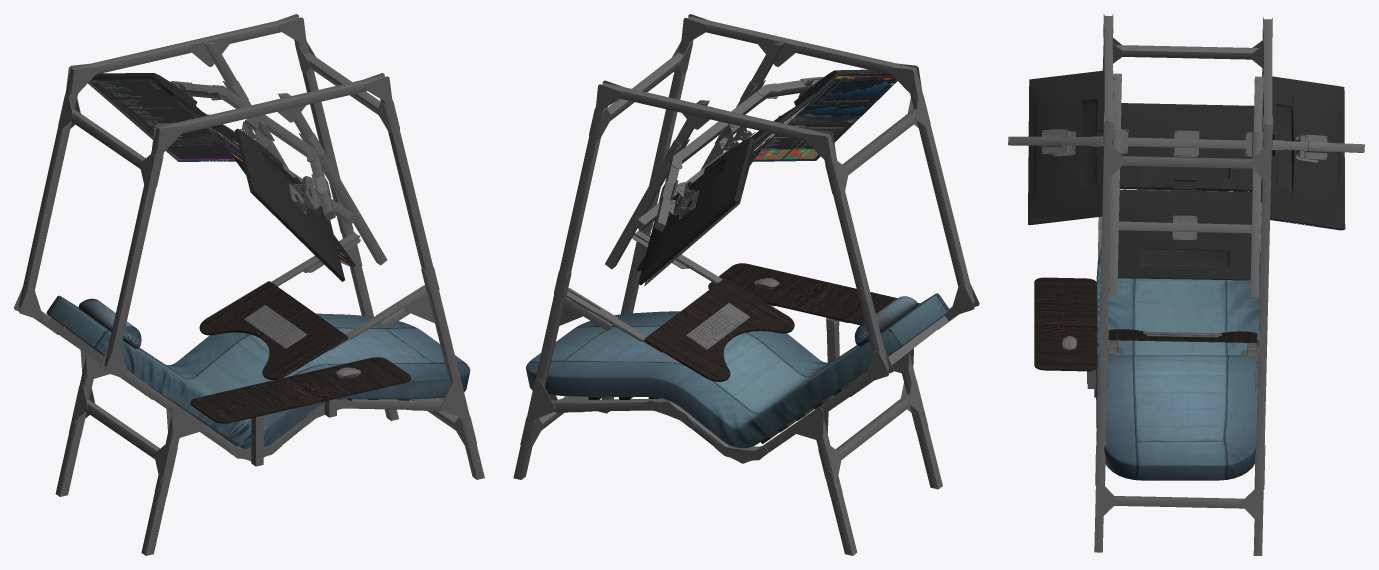
The model's file is arkexp.glb.
3 views of the same model, side by side, from view 1: azimuth 30°, elevation 25°; view 2: azimuth 150°, elevation 25°; view 3: azimuth 270°, elevation 25° (orthographic). The views are drawn at different scales.
Parts seen in each view (by area): view 1: steelassem_exportxsi, matres1, polymsh_detached, table1, polymsh_detached21, polymsh_detached12, Rii_K22_Keyboard1, pillow1, polymsh_detached15, rails1, slider1; view 2: steelassem_exportxsi, matres1, table1, polymsh_detached15, polymsh_detached14, polymsh_detached, Rii_K22_Keyboard1, pillow1, rails1, slider1, polymsh_detached12, polymsh_detached21; view 3: matres1, steelassem_exportxsi, polymsh, polymsh_detached21, polymsh_detached15, polymsh_detached, table1, polymsh_detached6, polymsh_detached20.
Boxes of the visible parts, bbox=[...] form: steelassem_exportxsi: bbox=[14, 14, 484, 555]; matres1: bbox=[46, 295, 470, 448]; polymsh_detached: bbox=[190, 357, 410, 423]; table1: bbox=[199, 281, 348, 379]; polymsh_detached21: bbox=[235, 128, 344, 281]; polymsh_detached12: bbox=[88, 79, 235, 161]; Rii_K22_Keyboard1: bbox=[244, 305, 306, 348]; pillow1: bbox=[78, 298, 141, 348]; polymsh_detached15: bbox=[91, 73, 209, 115]; rails1: bbox=[271, 231, 427, 339]; slider1: bbox=[271, 256, 395, 350]; steelassem_exportxsi: bbox=[513, 14, 979, 555]; matres1: bbox=[526, 293, 949, 448]; table1: bbox=[644, 278, 794, 381]; polymsh_detached15: bbox=[638, 137, 753, 284]; polymsh_detached14: bbox=[753, 72, 897, 161]; polymsh_detached: bbox=[708, 263, 919, 325]; Rii_K22_Keyboard1: bbox=[686, 303, 749, 349]; pillow1: bbox=[854, 296, 917, 346]; rails1: bbox=[566, 229, 721, 341]; slider1: bbox=[596, 254, 722, 352]; polymsh_detached12: bbox=[644, 142, 755, 286]; polymsh_detached21: bbox=[753, 69, 897, 161]; matres1: bbox=[1096, 189, 1260, 480]; steelassem_exportxsi: bbox=[1008, 14, 1364, 555]; polymsh: bbox=[1117, 103, 1259, 280]; polymsh_detached21: bbox=[1028, 70, 1104, 225]; polymsh_detached15: bbox=[1263, 76, 1345, 230]; polymsh_detached: bbox=[1034, 277, 1097, 371]; table1: bbox=[1108, 329, 1257, 342]; polymsh_detached6: bbox=[1038, 129, 1064, 154]; polymsh_detached20: bbox=[1304, 135, 1330, 160].
Bounding box in the file's own units: 0.0196 × 0.0209 × 0.017.
Materials: 9 (7 with a texture image).
